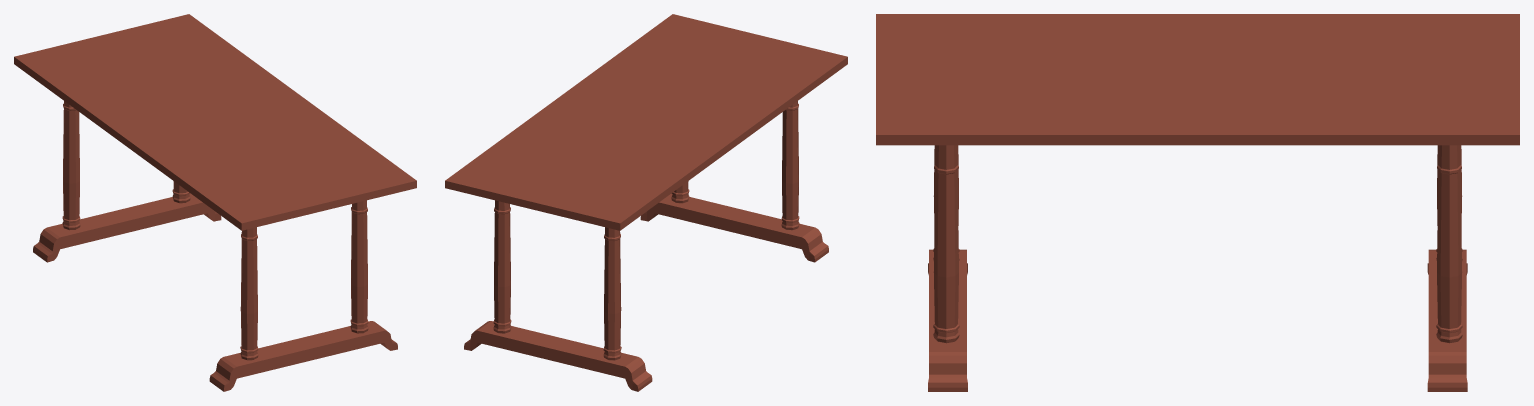
File: Mesa4.glb
3 renders of one model, left to right at view 1: azimuth 30°, elevation 25°; view 2: azimuth 150°, elevation 25°; view 3: azimuth 270°, elevation 25°, orthographic. The views are drawn at different scales.
Parts seen in each view (by area): view 1: Cube, Cube.001, Cilindro.003; view 2: Cube, Cube.001, Cilindro.003; view 3: Cube, Cilindro.003, Cube.001.
Part boxes in pixels (x1=…): Cube: x1=14, y1=14, x2=416, y2=230; Cube.001: x1=33, y1=193, x2=397, y2=391; Cilindro.003: x1=62, y1=101, x2=368, y2=360; Cube: x1=445, y1=14, x2=847, y2=230; Cube.001: x1=464, y1=193, x2=828, y2=391; Cilindro.003: x1=493, y1=101, x2=799, y2=360; Cube: x1=876, y1=14, x2=1519, y2=145; Cilindro.003: x1=933, y1=145, x2=1462, y2=343; Cube.001: x1=928, y1=249, x2=1467, y2=391.
Bounding box in the file's own units: 3.18 × 3.16 × 7.17.
